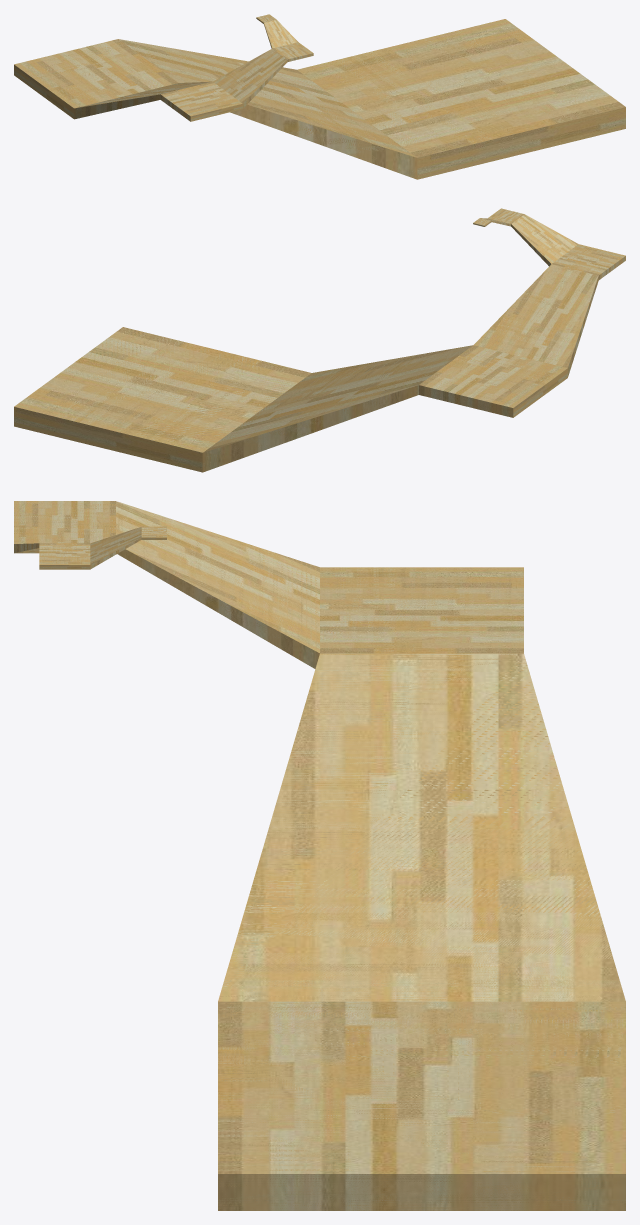
Rendered from ScaleLoop.dae.
3 renders of one model, top to bottom at view 1: azimuth 30°, elevation 25°; view 2: azimuth 150°, elevation 25°; view 3: azimuth 270°, elevation 25°, orthographic. The views are drawn at different scales.
Parts seen in each view (by area): view 1: instance_0 (×2), instance_1, instance_3 (×2), instance_4 (×2), instance_6, instance_2, instance_5, instance_7; view 2: instance_0 (×2), instance_1, instance_2, instance_3 (×2), instance_6, instance_4; view 3: instance_1, instance_0, instance_3, instance_2, instance_4, instance_7, instance_5.
Part boxes in pixels (x1,y1,x2,y2): instance_0 (×2): (297,19,625,179); instance_1: (119,39,417,179); instance_3 (×2): (14,39,177,118); instance_4 (×2): (160,81,242,121); instance_6: (213,48,287,108); instance_2: (74,81,211,119); instance_5: (264,20,297,48); instance_7: (272,42,313,62); instance_0 (×2): (14,327,311,472); instance_1: (202,345,472,472); instance_2: (473,264,598,376); instance_3 (×2): (419,345,567,417); instance_6: (511,214,578,266); instance_4: (552,244,625,280); instance_1: (218,653,625,1001); instance_0: (218,1001,625,1210); instance_3: (320,567,523,653); instance_2: (116,501,319,668); instance_4: (14,501,115,543); instance_7: (39,543,90,564); instance_5: (90,527,141,569).
Size of the model in its own units: 98.43 by 59.06 by 39.
Materials: 2 (2 with a texture image).
